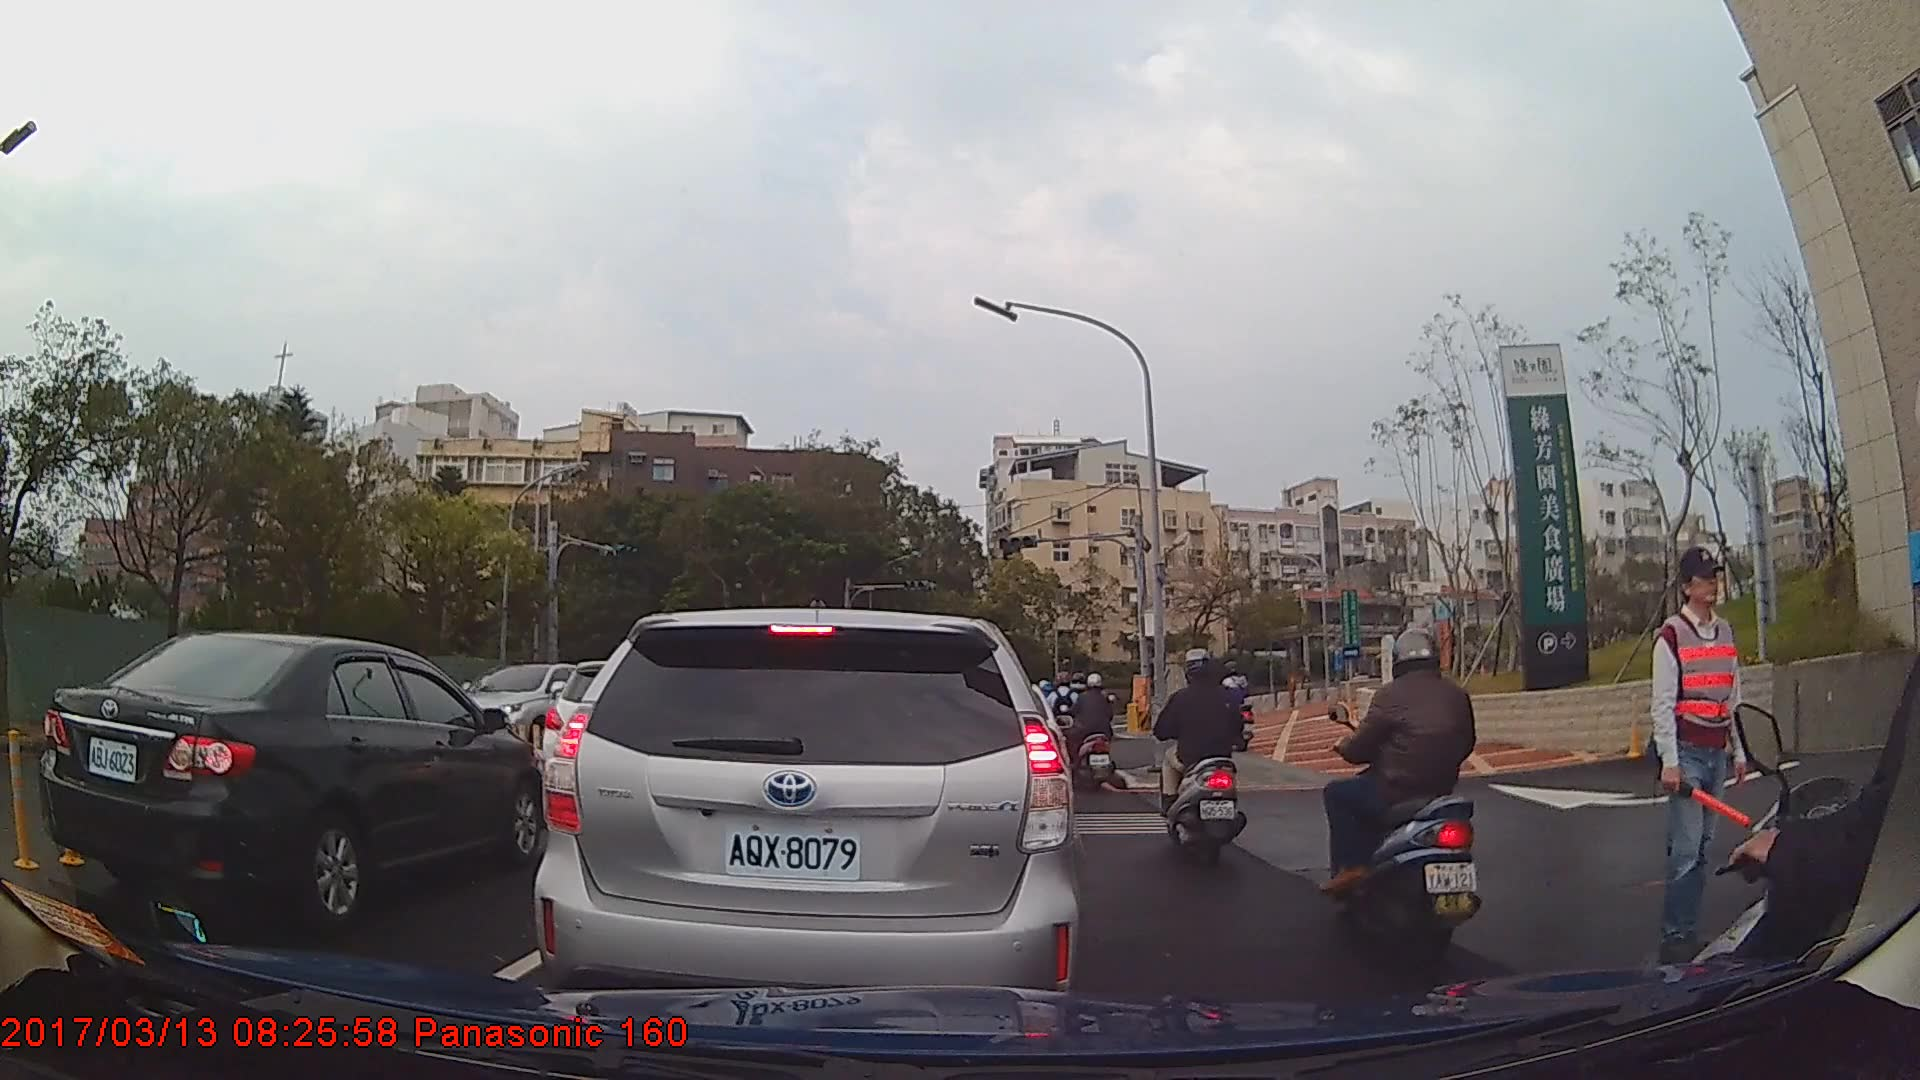pedestrian: (1644, 548, 1758, 961)
rider: (1325, 623, 1500, 962), (1152, 644, 1251, 875), (1074, 671, 1120, 797), (1215, 662, 1252, 754)
vehicle: (534, 606, 1080, 1020), (39, 630, 549, 930), (455, 662, 592, 756)
